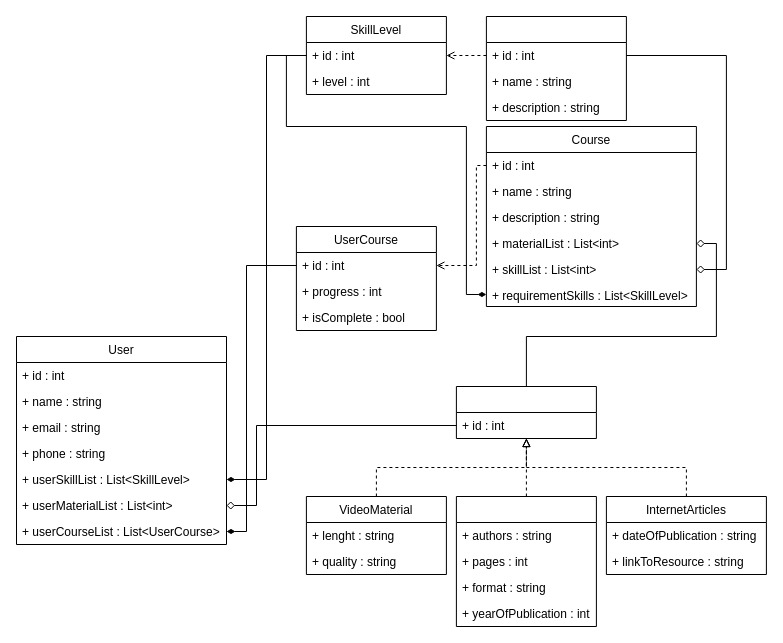
Some shapes in this 783 by 643 pixel diagram are drawn without their labels. Each missing label, with the box of its shape:
DigitalBookMaterial: (455, 496, 596, 626)
Material: (455, 386, 596, 438)
Skill: (485, 16, 626, 120)
